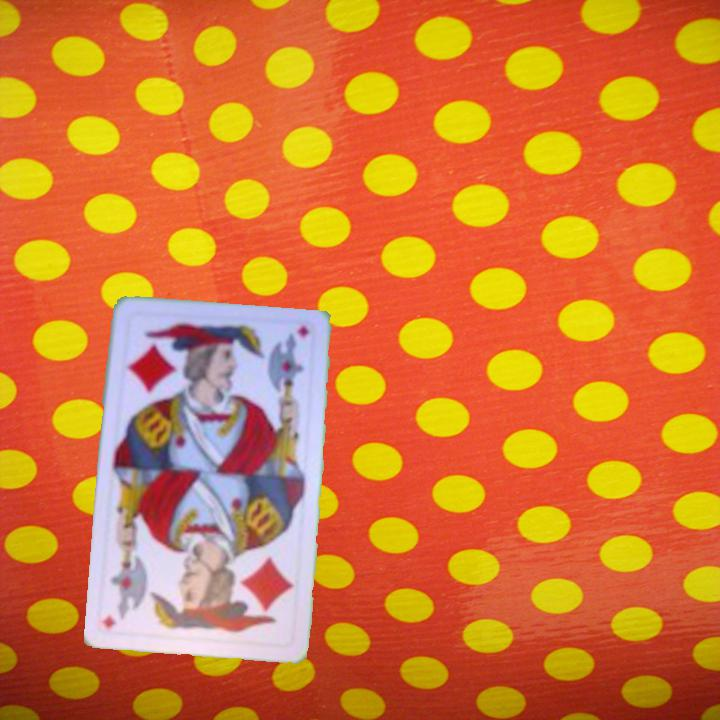d_j.png: (194, 554, 300, 647), (119, 311, 224, 404)
